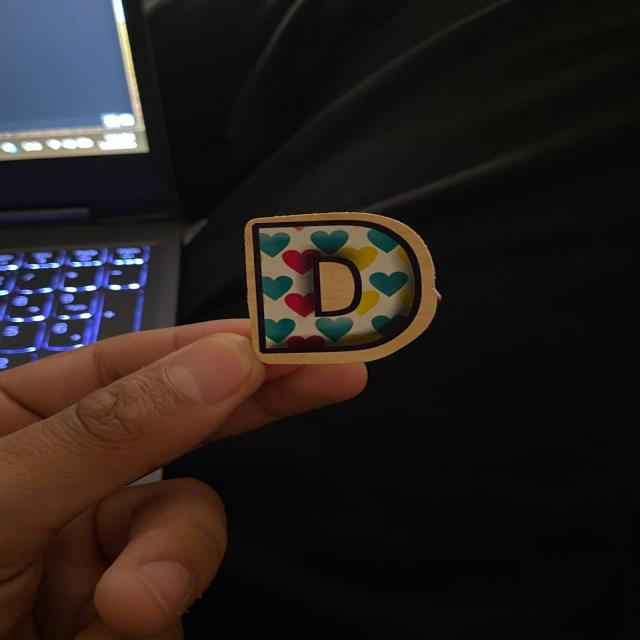D: (245, 213, 437, 363)
